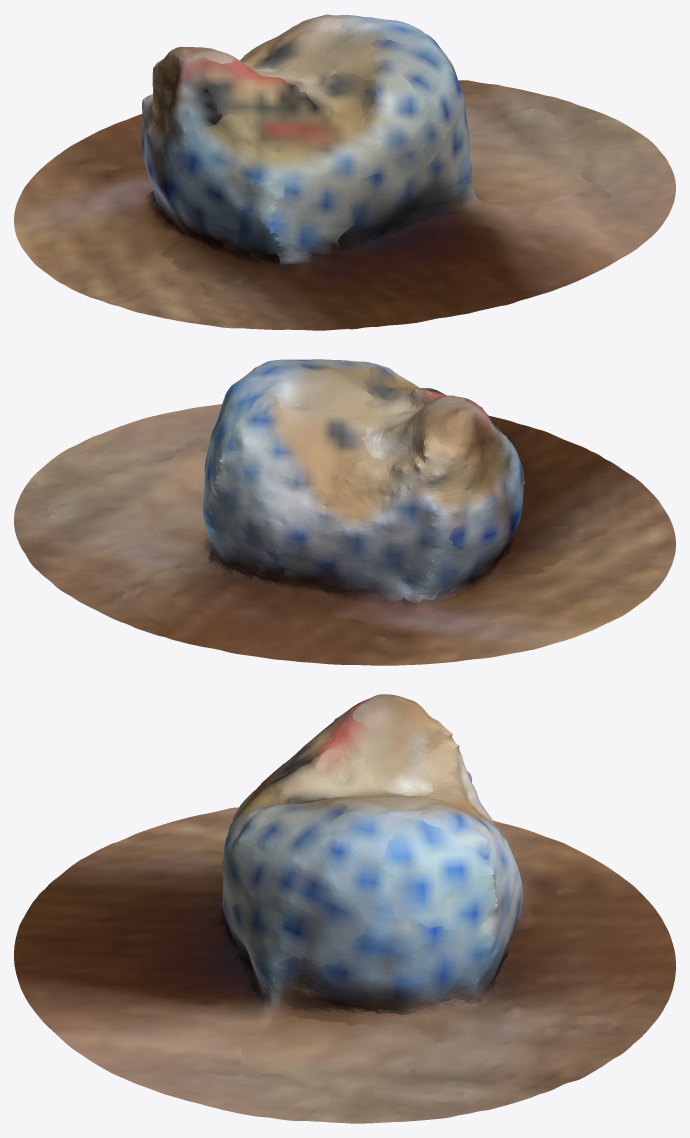
File: asset.glb
The picture shows the model from 3 angles, top to bottom: view 1: azimuth 30°, elevation 25°; view 2: azimuth 150°, elevation 25°; view 3: azimuth 270°, elevation 25°; orthographic projection. The views are drawn at different scales.
Parts seen in each view (by area): view 1: mesh; view 2: mesh; view 3: mesh.
Part boxes in pixels (x1,y1,x2,y2): mesh: [14, 14, 675, 330]; mesh: [14, 359, 675, 665]; mesh: [14, 694, 675, 1123].
Bounding box in the file's own units: 0.1071 × 0.0308 × 0.0937.
Materials: 1 (1 with a texture image).
